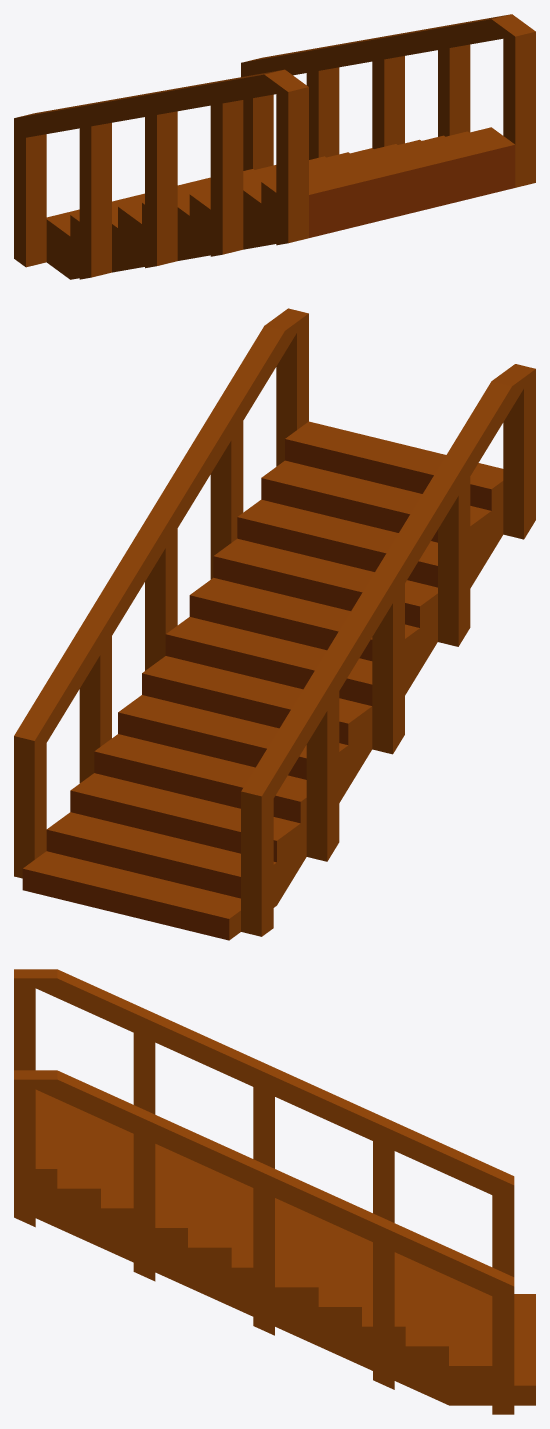
The model's file is woodenstairs.obj.
3 views of the same model, one above another, from view 1: azimuth 30°, elevation 25°; view 2: azimuth 150°, elevation 25°; view 3: azimuth 270°, elevation 25° (orthographic). The views are drawn at different scales.
Parts seen in each view (by area): view 1: woodenstairs_back; view 2: woodenstairs_back; view 3: woodenstairs_back.
Boxes of the visible parts, box(x1,y1,x2,y2) form: woodenstairs_back: box(14, 14, 535, 279); woodenstairs_back: box(14, 308, 535, 940); woodenstairs_back: box(14, 969, 535, 1414).
Bounding box in the file's own units: 1.92 × 2.72 × 3.84.
